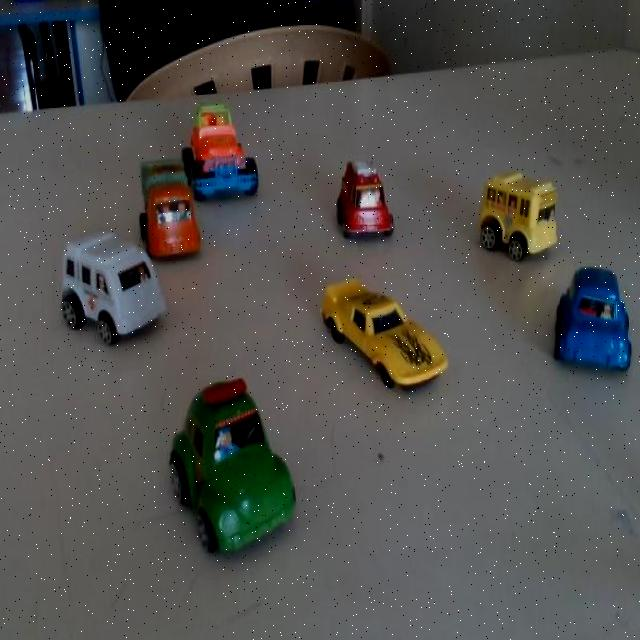car: (160, 382, 298, 548), (55, 216, 174, 362), (316, 272, 450, 395), (187, 94, 272, 202), (556, 268, 636, 373), (469, 172, 552, 267), (324, 151, 396, 254), (136, 152, 201, 265)
